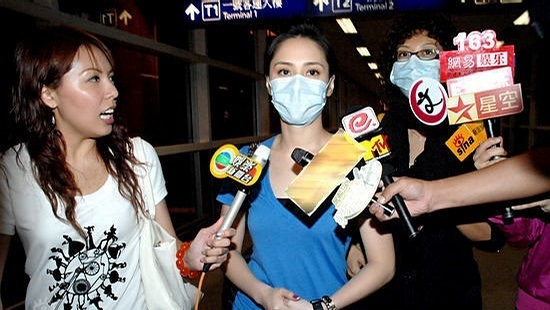face: (59, 47, 125, 136)
face_mask: (268, 47, 325, 126), (389, 35, 442, 99)
